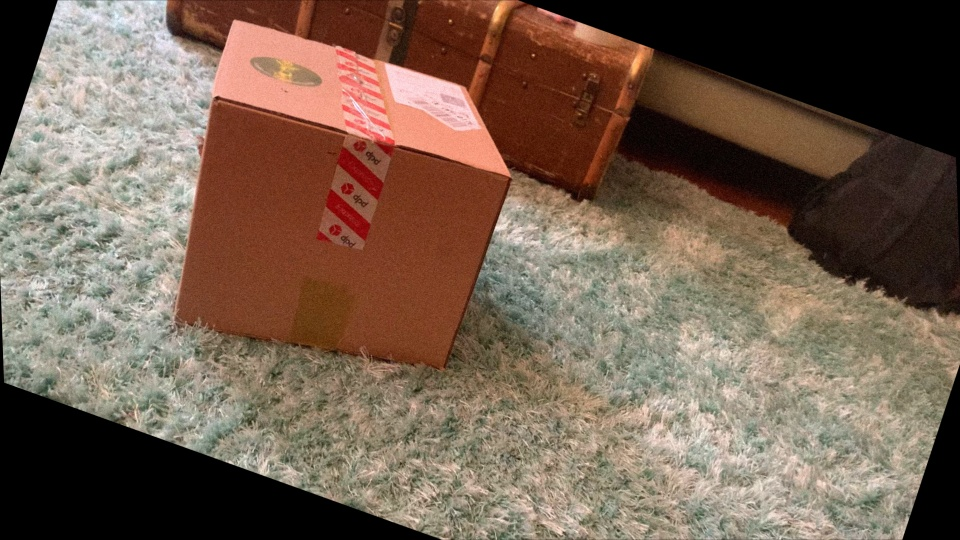good-parcel: (170, 16, 516, 392)
